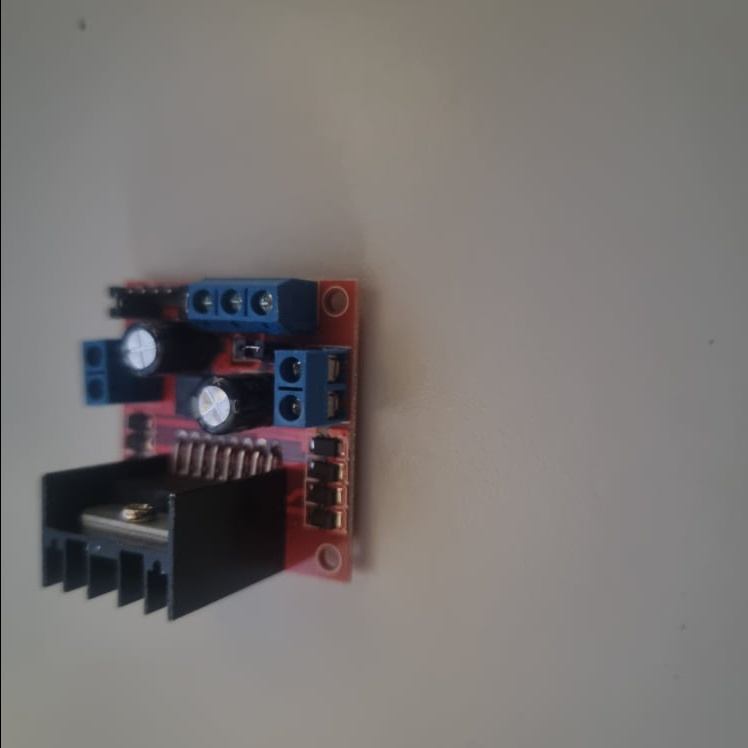MOTOR: (41, 273, 357, 623)
